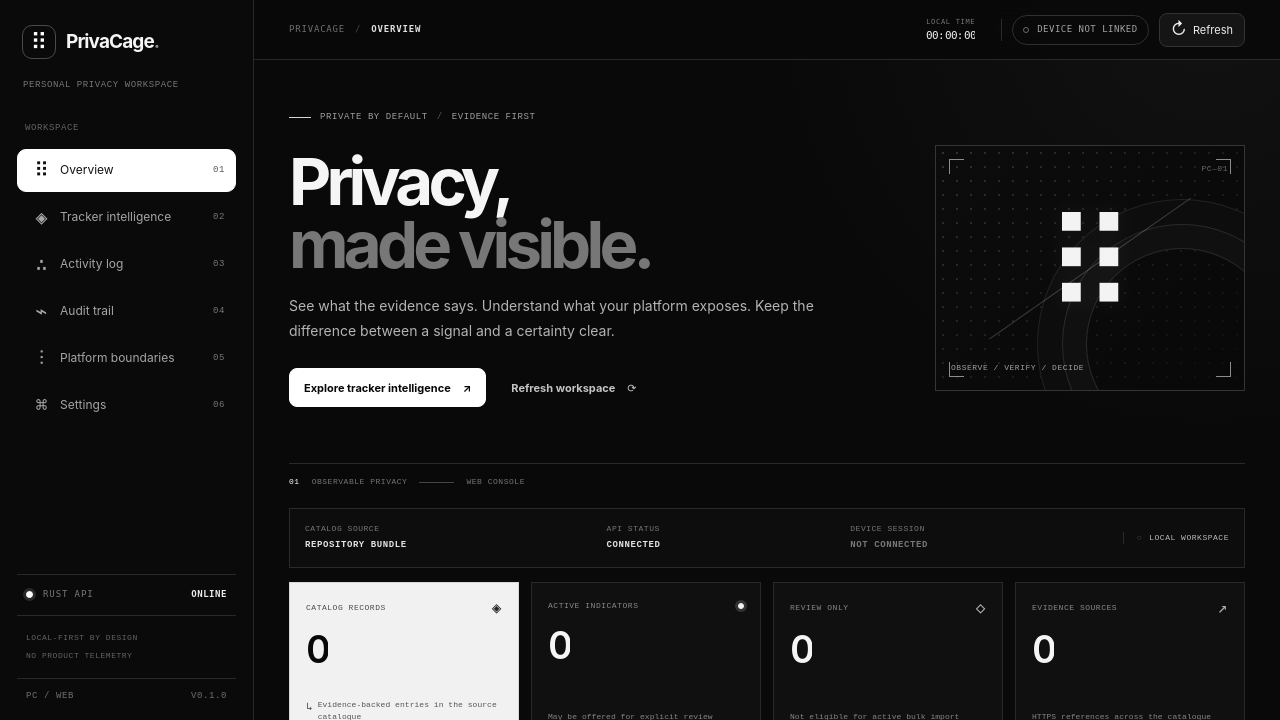
Test: PrivaCage web workspace › navigates to the tracker directory and filters entries by their domain
expect the heading named "Privacy, made visible" is shown: met, box [289,142,650,284]
Click the link with aria-label "Evidence-linked tracker indicators" at (130, 217), box [36,205,225,229]
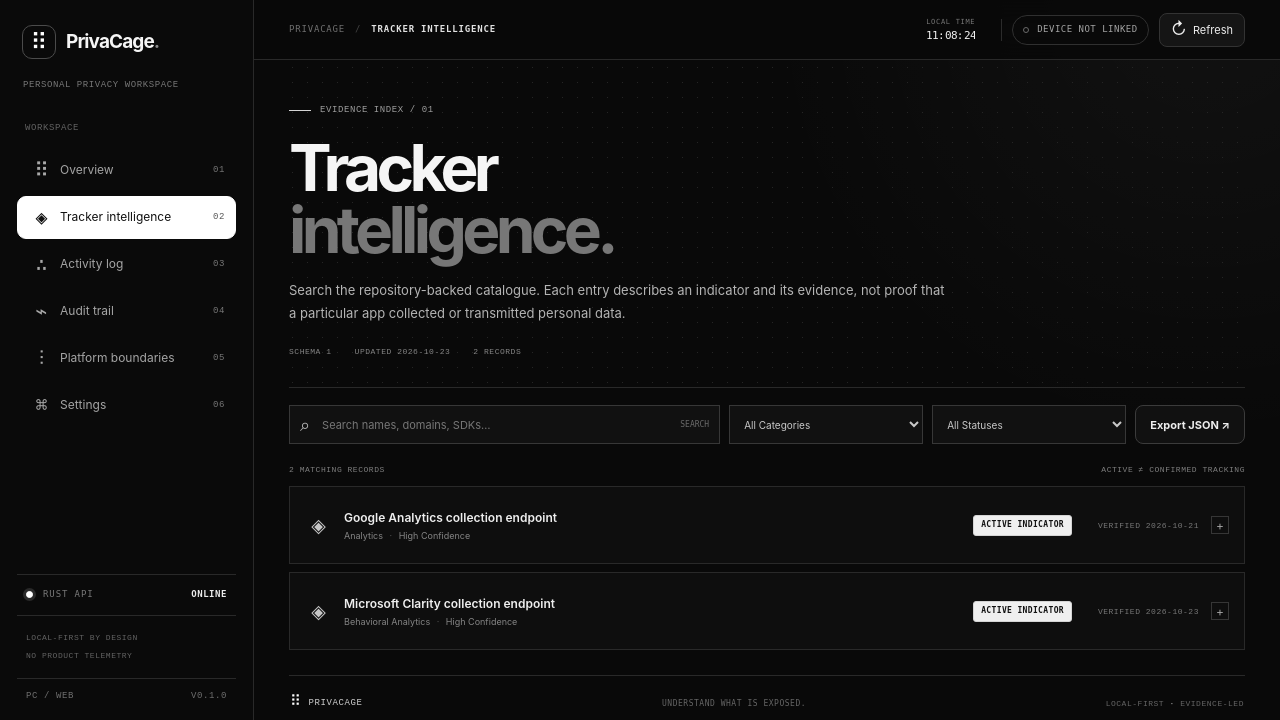
expect the heading named "Tracker intelligence" is shown: met, box [289,128,614,268]
Type "www.clarity.ms" into the search field named "Search tracker intelligence" at (495, 425), box [320,417,670,433]
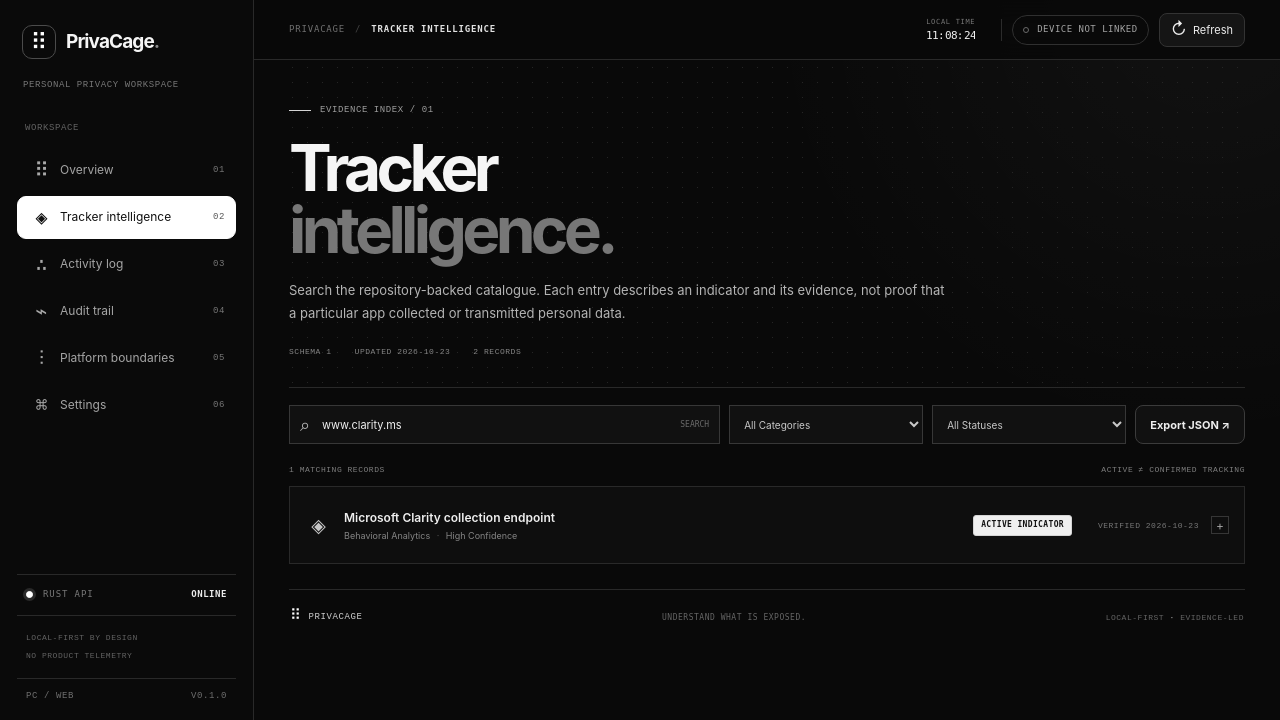
expect the text "Microsoft Clarity collection endpoint" is shown: met, box [344,510,555,525]
expect the button "Google Analytics collection endpoint" is gone: met
